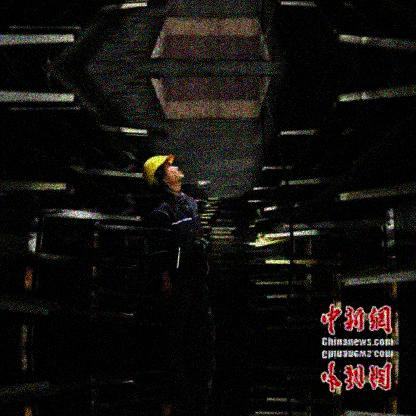helmet: (143, 154, 186, 195)
